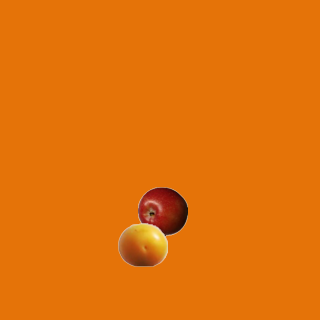Apple Braeburn: (137, 186, 187, 236)
Cherry Wax Yellow: (117, 219, 167, 269)
